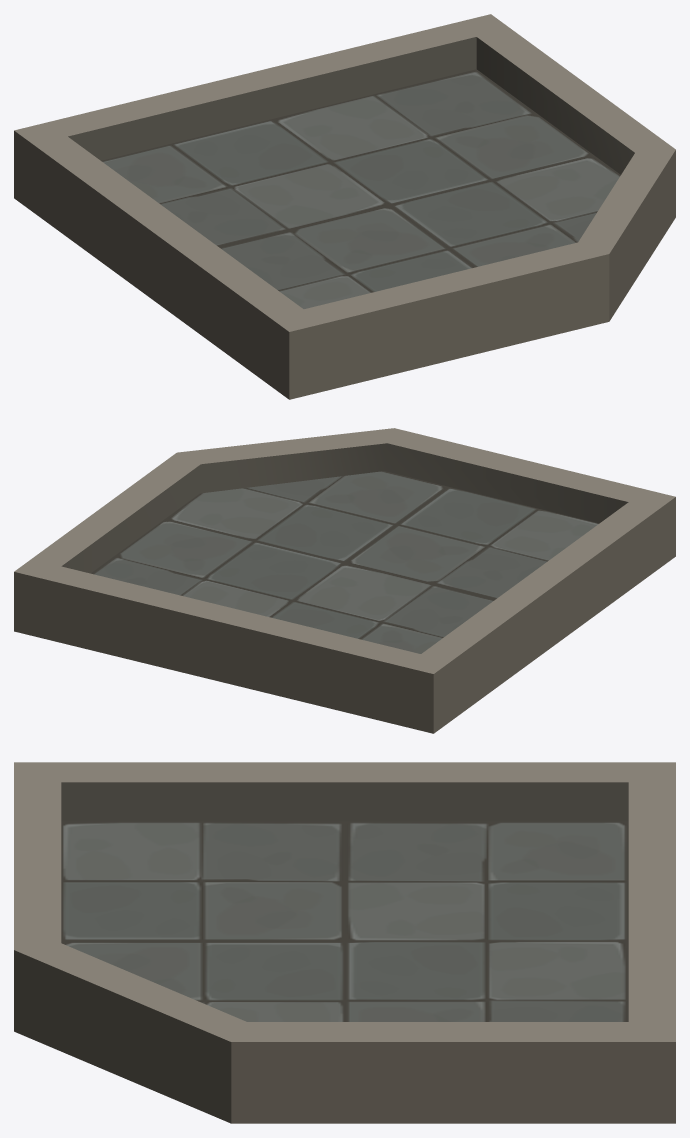
File: RoofTop_A01.fbx
The picture shows the model from 3 angles, top to bottom: view 1: azimuth 30°, elevation 25°; view 2: azimuth 150°, elevation 25°; view 3: azimuth 270°, elevation 25°; orthographic projection. The views are drawn at different scales.
Visible parts, largest first — view 1: RoofTop_A01; view 2: RoofTop_A01; view 3: RoofTop_A01.
Boxes of the visible parts, left/top/right/bottom form: RoofTop_A01: left=14, top=14, right=675, bottom=399; RoofTop_A01: left=14, top=428, right=675, bottom=733; RoofTop_A01: left=14, top=762, right=675, bottom=1123.
Bounding box in the file's own units: 607 × 82.56 × 607.
